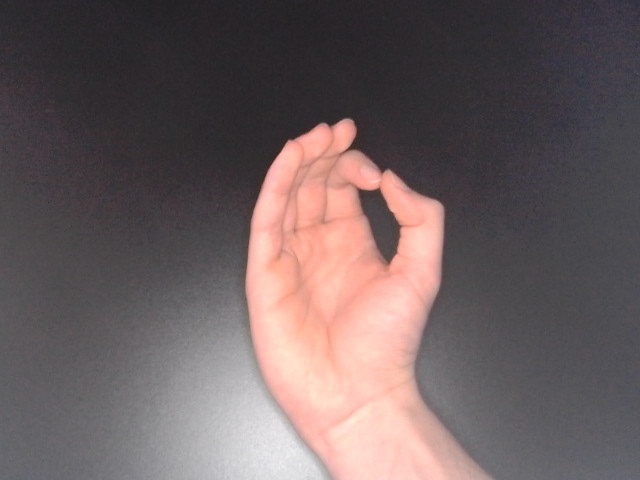o: (237, 112, 451, 457)
